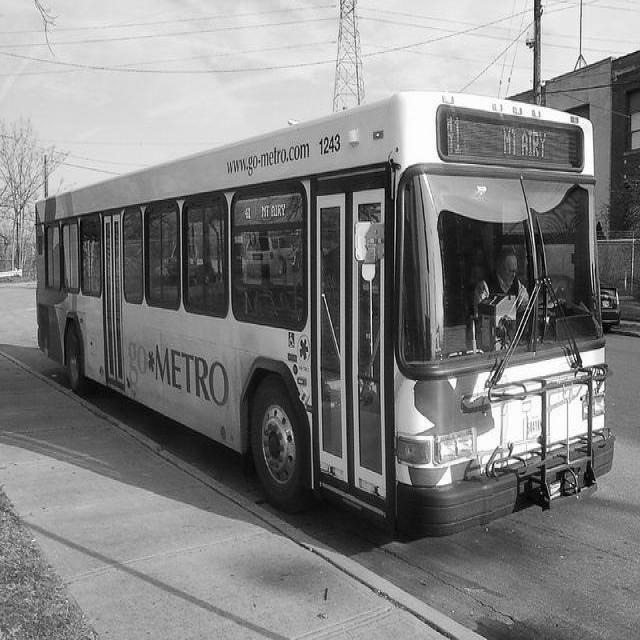vehicle: (31, 88, 619, 544), (524, 274, 621, 334)
